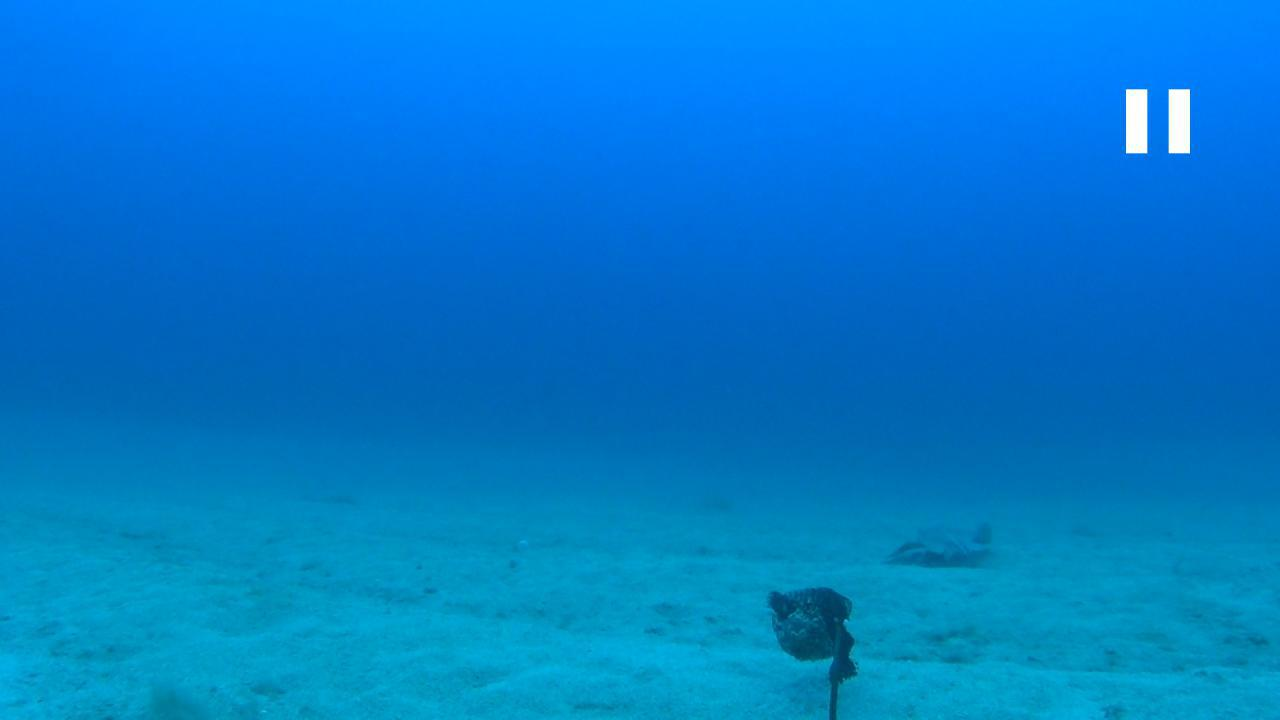dasyatis: (889, 517, 991, 565)
